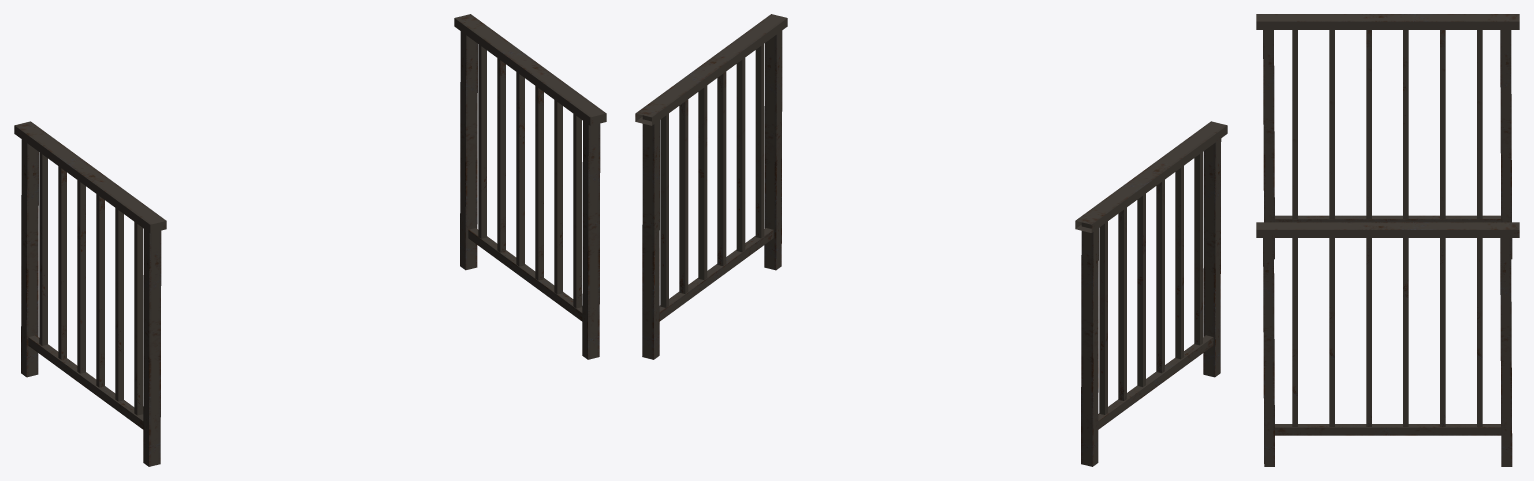
File: Stairs_Rails_Metal_Straight_1.gltf
3 views of the same model, side by side, from view 1: azimuth 30°, elevation 25°; view 2: azimuth 150°, elevation 25°; view 3: azimuth 270°, elevation 25° (orthographic). The views are drawn at different scales.
Parts seen in each view (by area): view 1: Stairs_Rails_Metal_Straight_1; view 2: Stairs_Rails_Metal_Straight_1; view 3: Stairs_Rails_Metal_Straight_1.
Part boxes in pixels (x1,y1,x2,y2): Stairs_Rails_Metal_Straight_1: [14, 14, 606, 466]; Stairs_Rails_Metal_Straight_1: [635, 14, 1227, 466]; Stairs_Rails_Metal_Straight_1: [1256, 14, 1519, 466].
Bounding box in the file's own units: 1.94 × 0.9981 × 1.
Materials: 1 (1 with a texture image).
